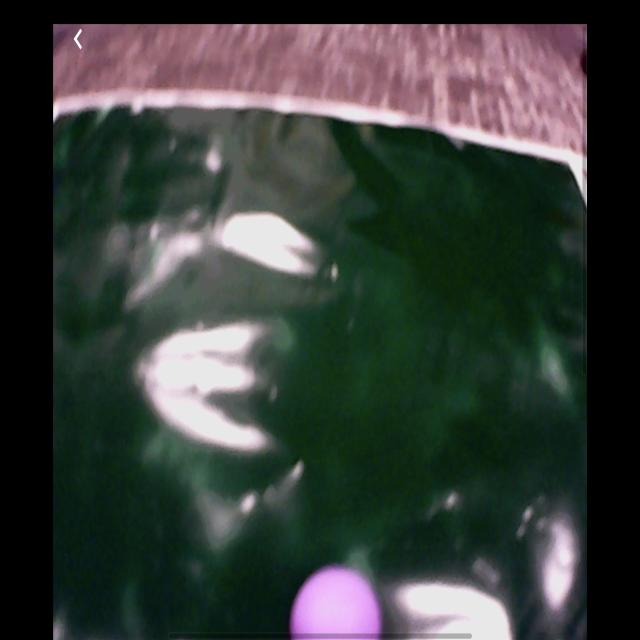ball: (290, 568, 385, 640)
